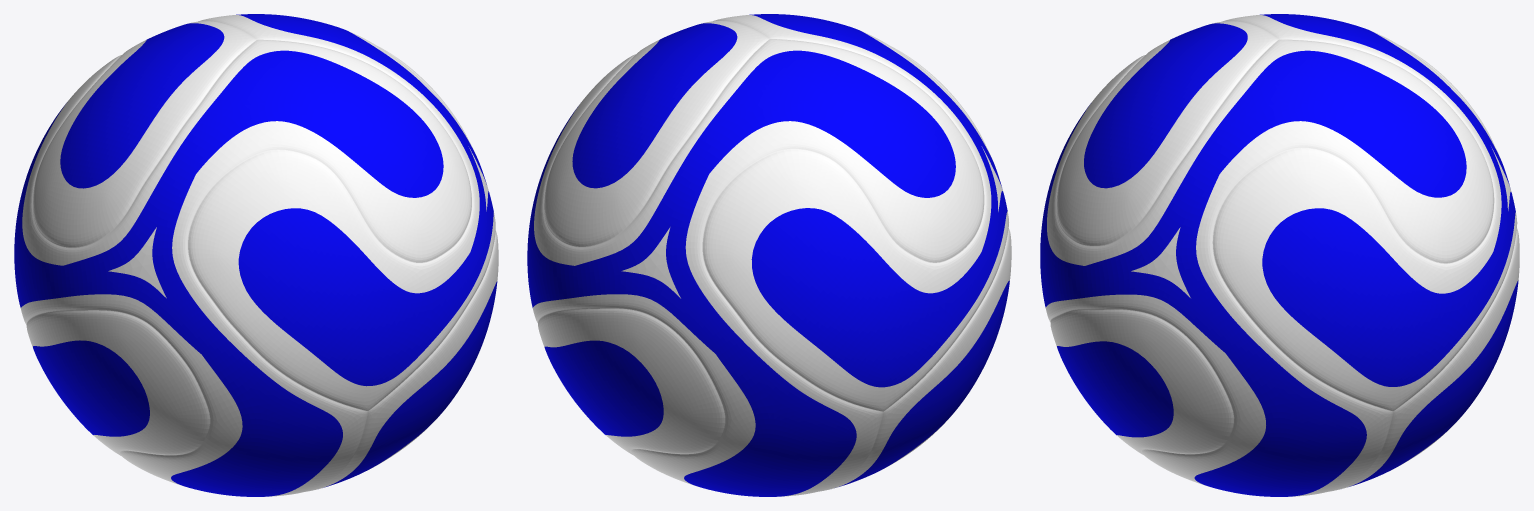
Rendered from Dual Color Trionda.obj.
The picture shows the model from 3 angles, left to right: view 1: azimuth 30°, elevation 25°; view 2: azimuth 150°, elevation 25°; view 3: azimuth 270°, elevation 25°; orthographic projection.
Parts seen in each view (by area): view 1: Object.1, Object.8, Object.6, Object.9, Object.7, Object.2; view 2: Object.1, Object.7, Object.8, Object.9, Object.6, Object.5; view 3: Object.1, Object.6, Object.7, Object.9, Object.8, Object.4.
Part boxes in pixels (x1=…): Object.1: x1=20, y1=15, x2=498, y2=496; Object.8: x1=14, y1=50, x2=443, y2=496; Object.6: x1=236, y1=14, x2=493, y2=386; Object.9: x1=33, y1=281, x2=497, y2=487; Object.7: x1=60, y1=23, x2=224, y2=188; Object.2: x1=108, y1=227, x2=166, y2=298; Object.1: x1=532, y1=15, x2=1011, y2=496; Object.7: x1=527, y1=50, x2=955, y2=496; Object.8: x1=749, y1=14, x2=1007, y2=387; Object.9: x1=544, y1=280, x2=1009, y2=486; Object.6: x1=572, y1=23, x2=737, y2=188; Object.5: x1=621, y1=227, x2=680, y2=298; Object.1: x1=1045, y1=15, x2=1519, y2=496; Object.6: x1=1040, y1=50, x2=1466, y2=496; Object.7: x1=1260, y1=14, x2=1515, y2=386; Object.9: x1=1057, y1=280, x2=1518, y2=486; Object.8: x1=1084, y1=23, x2=1247, y2=188; Object.4: x1=1131, y1=227, x2=1190, y2=297.
Bounding box in the file's own units: 98.24 × 98.09 × 98.36.
